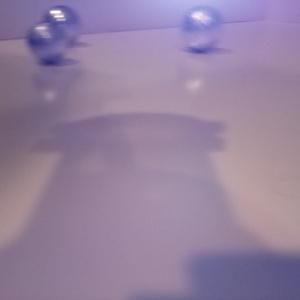alive_ball: (181, 5, 221, 52), (27, 21, 68, 63), (41, 5, 79, 47)
